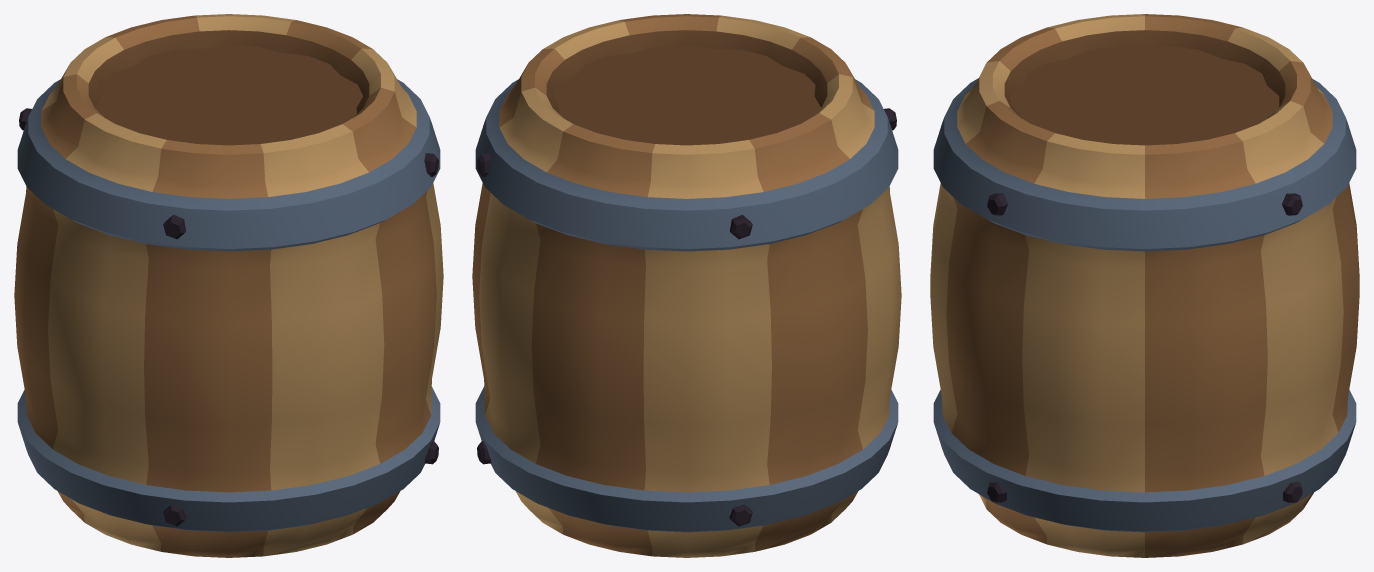
Rendered from Barrel_11.glb.
3 renders of one model, left to right at view 1: azimuth 30°, elevation 25°; view 2: azimuth 150°, elevation 25°; view 3: azimuth 270°, elevation 25°, orthographic.
Parts seen in each view (by area): view 1: Barrel_11; view 2: Barrel_11; view 3: Barrel_11.
Part boxes in pixels (x1,y1,x2,y2): Barrel_11: (14,14,443,557); Barrel_11: (472,14,901,557); Barrel_11: (930,14,1359,557).
Size of the model in its own units: 2.16 by 2.31 by 2.19.
